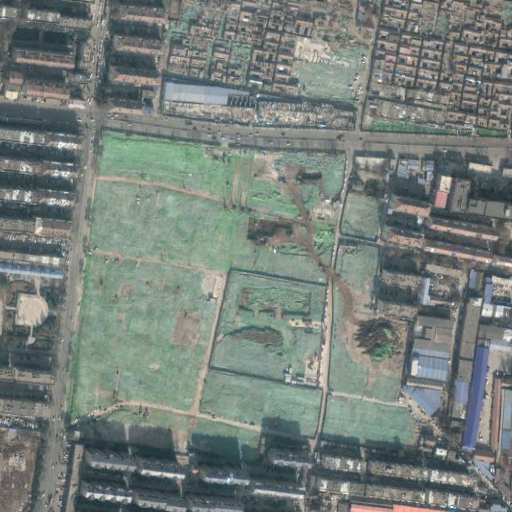cw: (68, 127, 421, 457), (290, 38, 365, 100)
